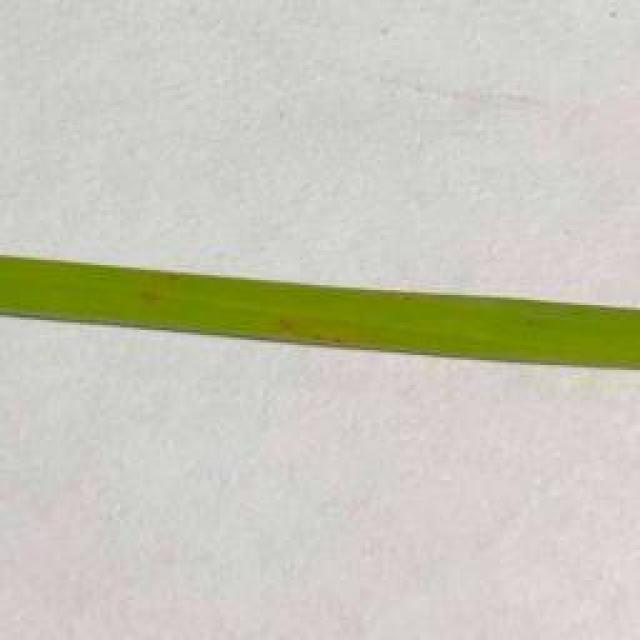Brown_Spot: (240, 282, 395, 400), (125, 250, 180, 336)
